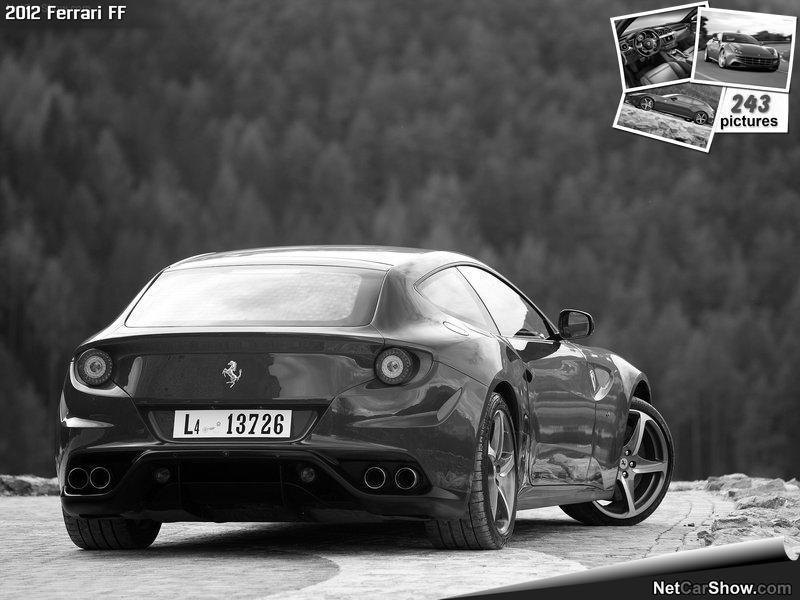car: (54, 246, 678, 553)
